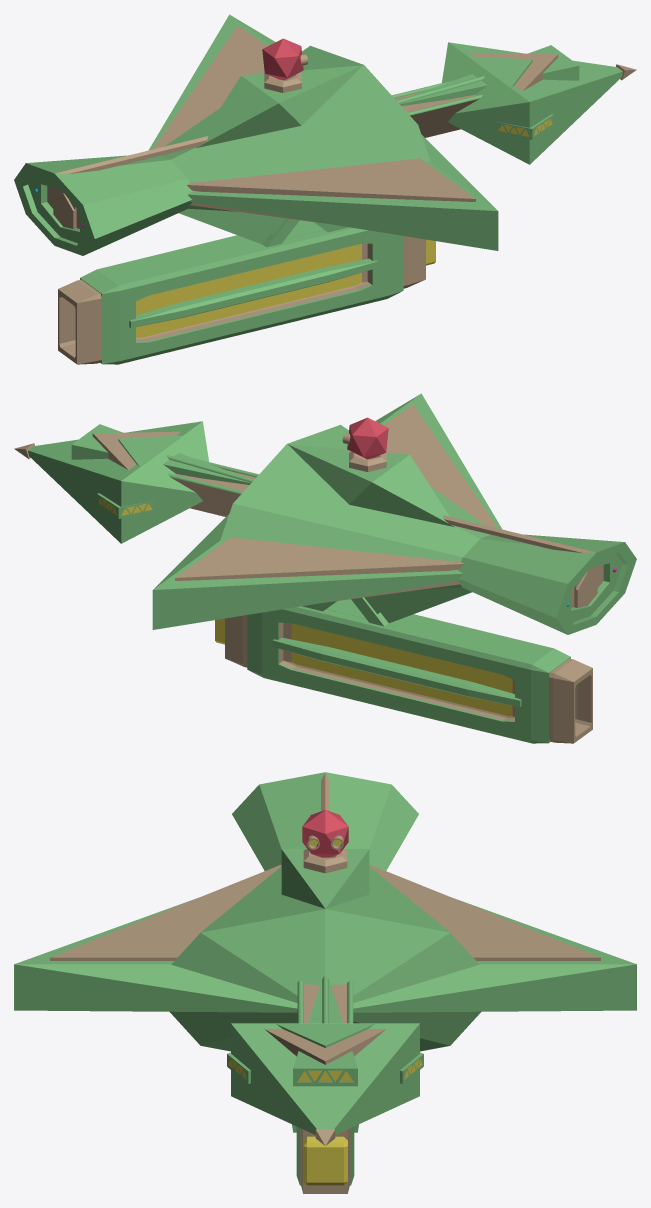
The model's file is Krelath Frigate v1.glb.
The picture shows the model from 3 angles, top to bottom: view 1: azimuth 30°, elevation 25°; view 2: azimuth 150°, elevation 25°; view 3: azimuth 270°, elevation 25°; orthographic projection. The views are drawn at different scales.
Visible parts, largest first — view 1: Mesh_Mesh_head_geo.001_lambert2SG.001; view 2: Mesh_Mesh_head_geo.001_lambert2SG.001; view 3: Mesh_Mesh_head_geo.001_lambert2SG.001.
Part boxes in pixels (box(x1,y1,x2,y2)): Mesh_Mesh_head_geo.001_lambert2SG.001: box(14, 14, 636, 364); Mesh_Mesh_head_geo.001_lambert2SG.001: box(14, 393, 636, 743); Mesh_Mesh_head_geo.001_lambert2SG.001: box(14, 772, 636, 1193).
Size of the model in its own units: 82.39 by 37.19 by 65.85.
